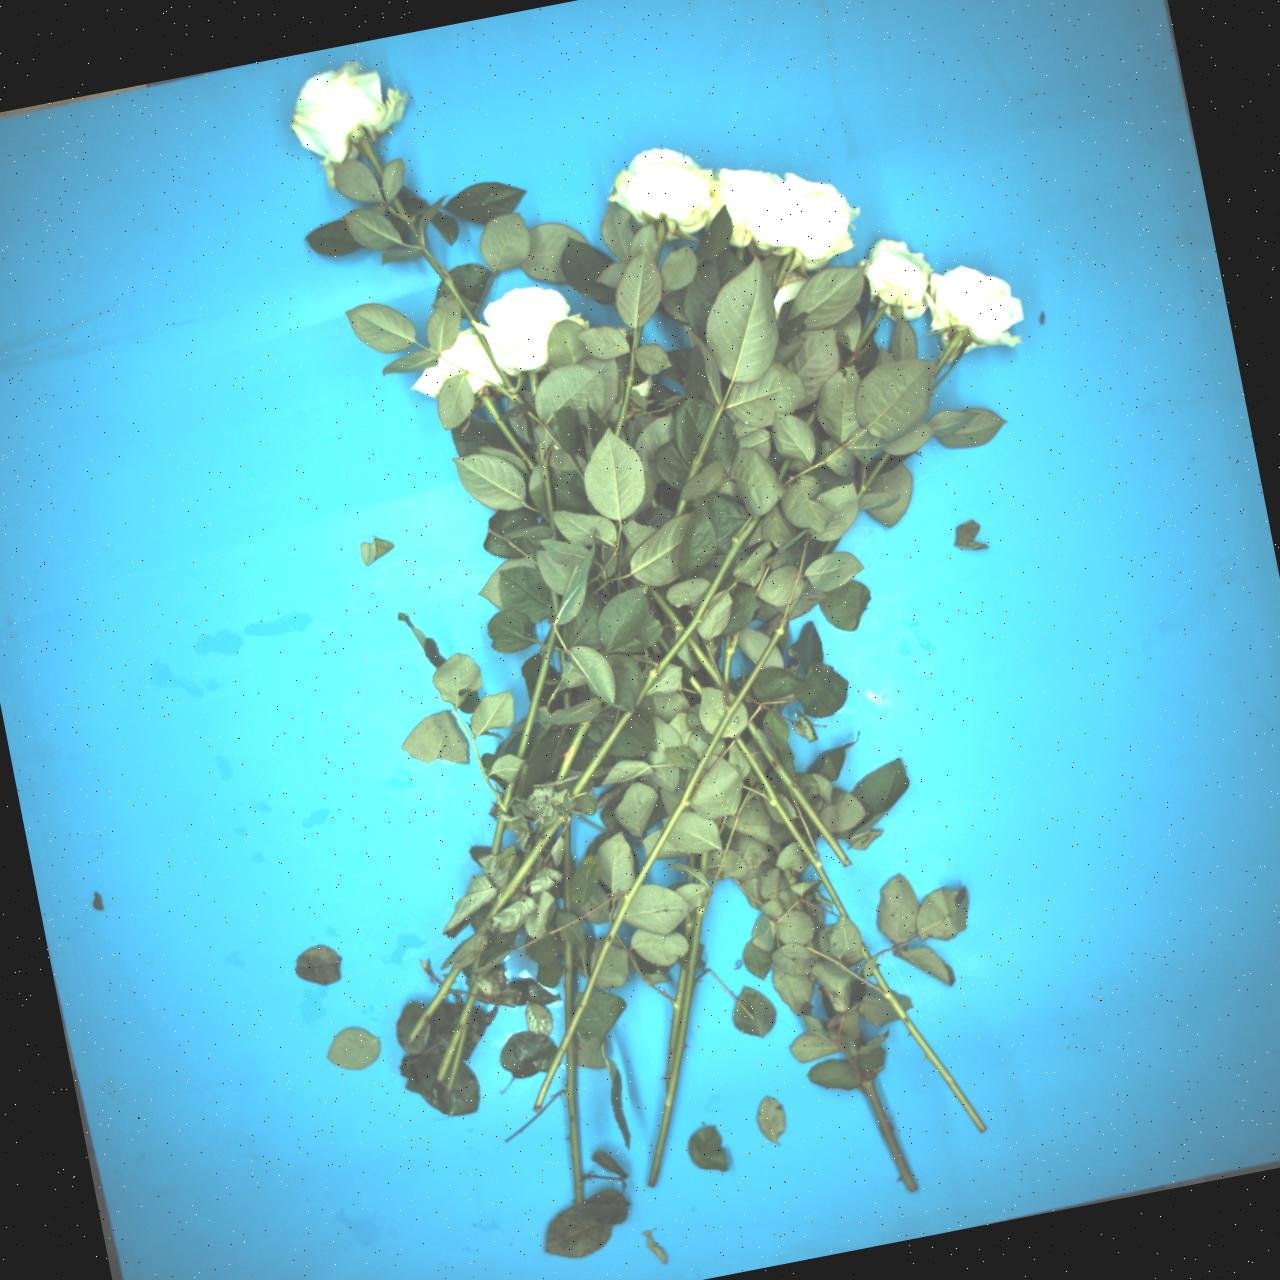Stem: (520, 587, 801, 1114), (632, 508, 762, 712), (733, 736, 855, 922), (869, 965, 988, 1135), (648, 903, 707, 1189), (744, 721, 853, 870), (475, 812, 565, 938), (862, 1080, 919, 1192), (568, 704, 635, 798), (516, 625, 560, 760), (403, 965, 463, 1046), (435, 982, 481, 1083), (479, 393, 537, 472), (423, 247, 478, 326), (563, 1036, 585, 1204), (685, 635, 734, 699), (686, 406, 724, 485), (662, 964, 687, 1087), (472, 326, 515, 390), (553, 719, 592, 784), (537, 440, 558, 540), (647, 585, 686, 633), (445, 1017, 470, 1092), (853, 304, 887, 352), (857, 451, 891, 496), (930, 333, 964, 376), (392, 196, 422, 240), (614, 374, 634, 438), (715, 633, 738, 686), (560, 818, 573, 912), (362, 142, 388, 181), (564, 941, 573, 1030), (649, 222, 667, 264), (774, 252, 795, 287), (559, 564, 579, 600), (491, 817, 508, 855), (499, 778, 516, 810), (549, 587, 561, 621), (775, 456, 792, 481), (816, 538, 835, 560), (672, 497, 688, 522), (688, 675, 707, 696), (857, 942, 873, 964), (510, 390, 527, 409), (656, 636, 672, 653), (805, 409, 819, 425), (685, 913, 693, 941), (632, 326, 642, 347), (530, 372, 539, 395), (471, 953, 481, 972), (648, 497, 660, 511), (701, 851, 708, 874), (799, 579, 810, 593), (563, 690, 571, 708), (639, 583, 651, 594), (618, 580, 629, 592), (467, 973, 476, 987), (687, 855, 695, 869), (686, 872, 695, 884), (736, 248, 743, 261), (560, 651, 567, 662), (613, 572, 619, 579)
flower: (267, 39, 415, 185), (740, 158, 873, 286), (602, 130, 735, 253), (467, 266, 574, 381), (919, 259, 1033, 354), (849, 229, 951, 327), (403, 327, 501, 418), (704, 165, 777, 252), (764, 271, 809, 316), (631, 373, 655, 401)
